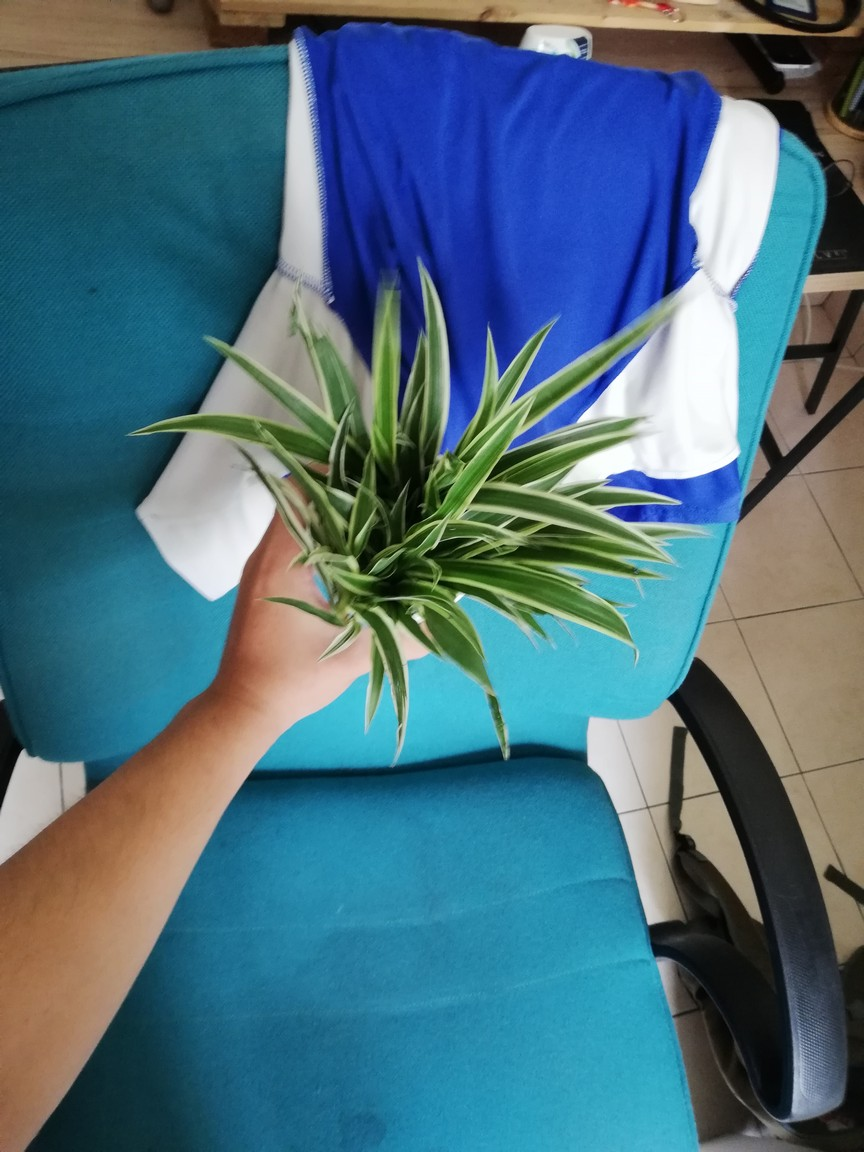daun: (565, 279, 710, 398), (204, 329, 300, 416), (370, 272, 402, 427), (419, 254, 452, 400), (476, 388, 541, 458), (120, 413, 246, 447), (475, 672, 515, 770), (498, 313, 564, 372), (571, 545, 668, 583), (242, 592, 338, 627), (385, 653, 412, 773), (437, 601, 490, 662), (326, 388, 358, 485), (359, 644, 384, 734), (418, 505, 462, 553), (610, 485, 687, 512), (315, 620, 362, 663), (389, 475, 416, 538), (657, 515, 723, 538), (481, 320, 497, 408), (524, 613, 557, 649), (563, 475, 612, 497), (409, 324, 427, 383), (601, 591, 645, 610), (283, 549, 308, 580), (646, 534, 682, 552)
